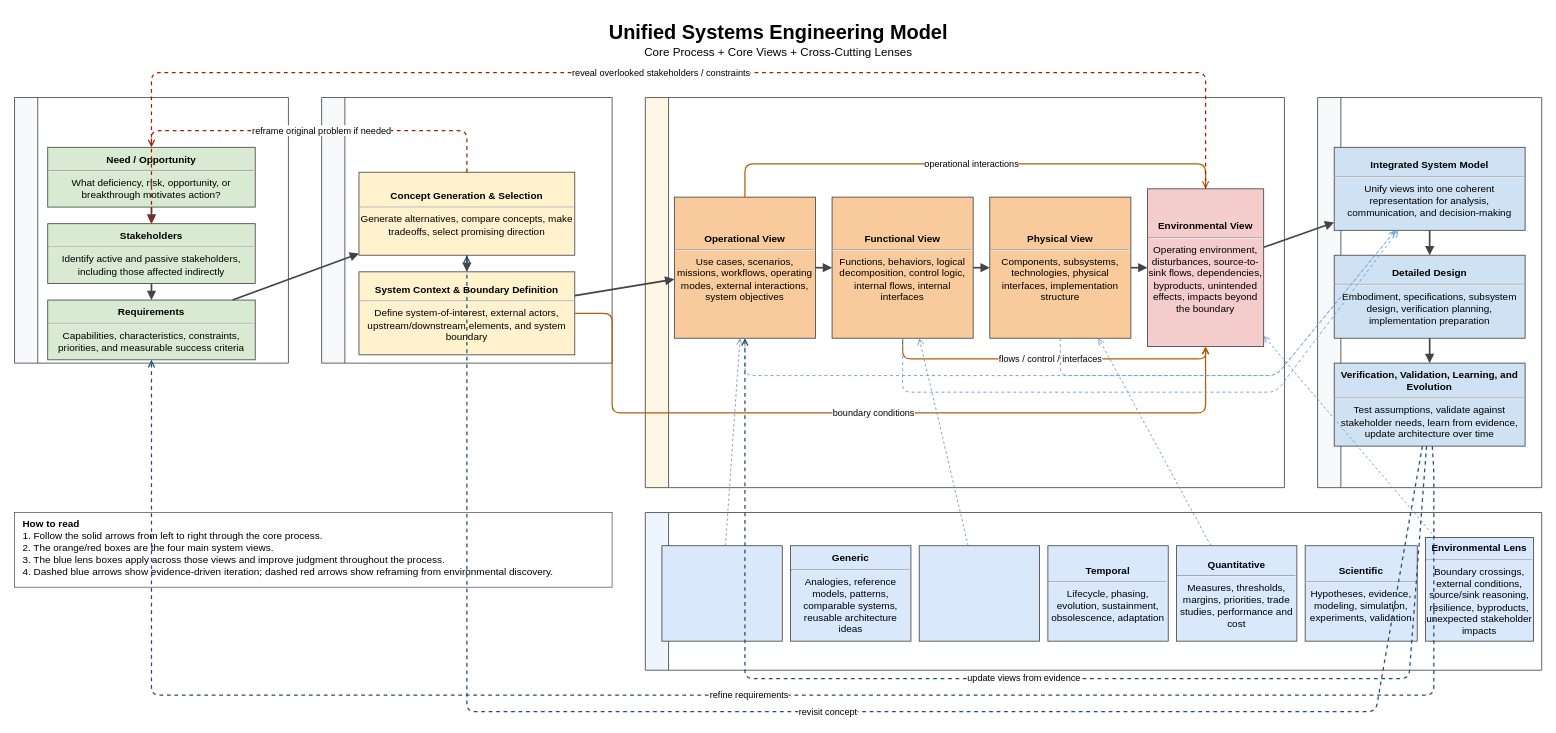
Image size: 1556x733. Some labels were removed from this diagram. Each missing label, with the box of its shape:
1. Problem Framing: (14, 97, 288, 363)
2. Concept and Boundary Definition: (321, 97, 612, 363)
3. Core System Views: (644, 97, 1284, 488)
4. Integration and Realization: (1317, 97, 1542, 488)
Big Picture Mission, purpose, value, larger system, system-of-systems context: (661, 545, 782, 641)
Continuum Trade spaces, gradients, ranges, not false either/or choices: (918, 545, 1040, 641)
Cross-Cutting Systems Thinking Lenses: (644, 512, 1542, 670)
